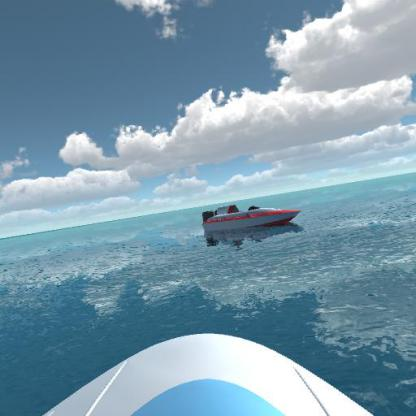usv3: (197, 197, 301, 240)
